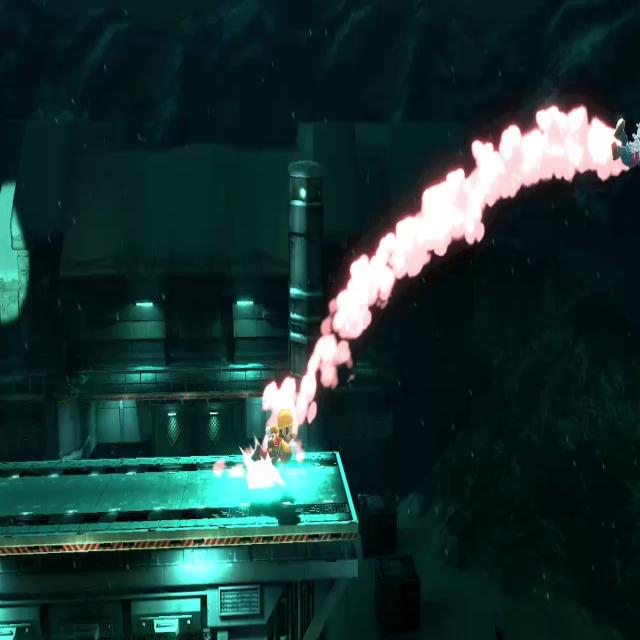Mario: (248, 404, 296, 476), (609, 114, 640, 174)
